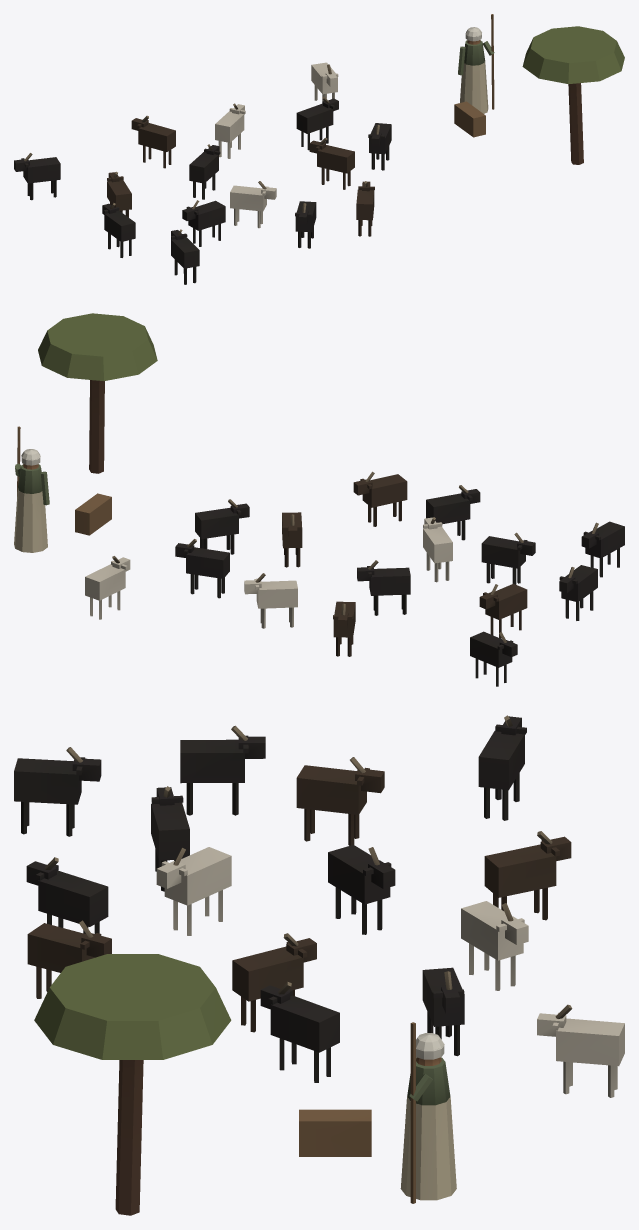
Rendered from shepherd.glb.
The picture shows the model from 3 angles, top to bottom: view 1: azimuth 30°, elevation 25°; view 2: azimuth 150°, elevation 25°; view 3: azimuth 270°, elevation 25°; orthographic projection. The views are drawn at different scales.
Visible parts, largest first — view 1: anim_graze, base; view 2: anim_graze, base; view 3: anim_graze, base.
Part boxes in pixels (left/top/right/bottom): anim_graze: left=14, top=62, right=391, bottom=284; base: left=454, top=14, right=624, bottom=164; anim_graze: left=85, top=471, right=624, bottom=686; base: left=14, top=313, right=157, bottom=552; anim_graze: left=14, top=715, right=624, bottom=1097; base: left=34, top=954, right=456, bottom=1215.
Bounding box in the file's own units: 10.51 × 2.35 × 5.88.
